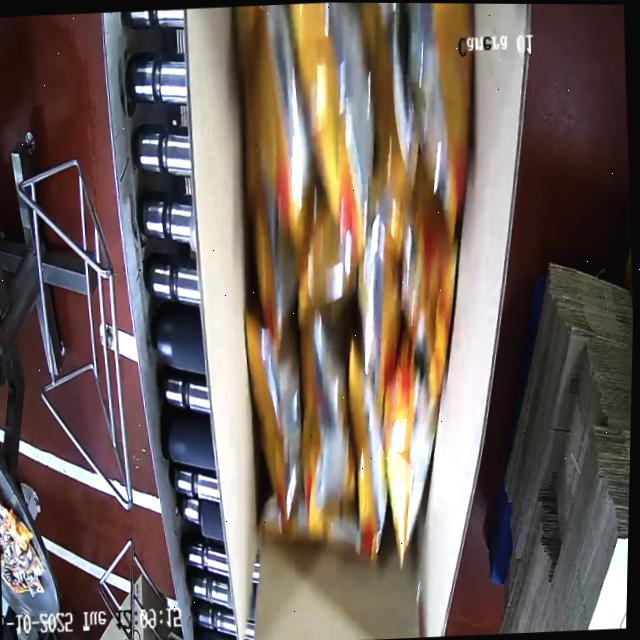FRENCH_CHEESE: (226, 2, 499, 557)
